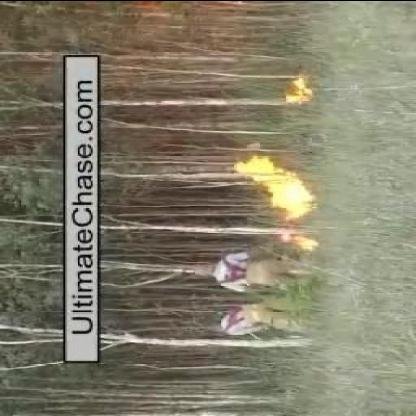foggia-v2-map80-epoch100 - v1 4323: (235, 155, 316, 217), (284, 78, 312, 104)
